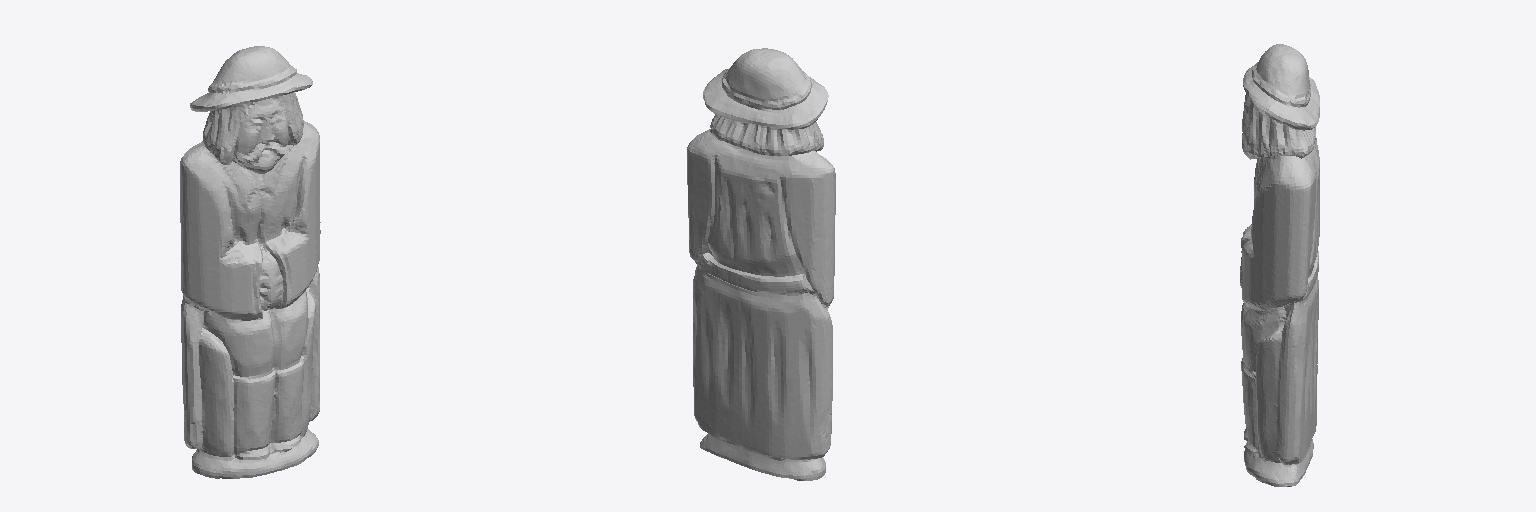
File: Hojda19.obj
The picture shows the model from 3 angles: view 1: azimuth 30°, elevation 25°; view 2: azimuth 150°, elevation 25°; view 3: azimuth 270°, elevation 25°; orthographic projection.
Visible parts, largest first — view 1: Hojda19_lowpoly; view 2: Hojda19_lowpoly; view 3: Hojda19_lowpoly.
Boxes of the visible parts, x1,y1,x2,y2 form: Hojda19_lowpoly: [180, 46, 320, 478]; Hojda19_lowpoly: [687, 48, 835, 480]; Hojda19_lowpoly: [1240, 44, 1319, 486].
Bounding box in the file's own units: 0.0778 × 0.2198 × 0.0391.